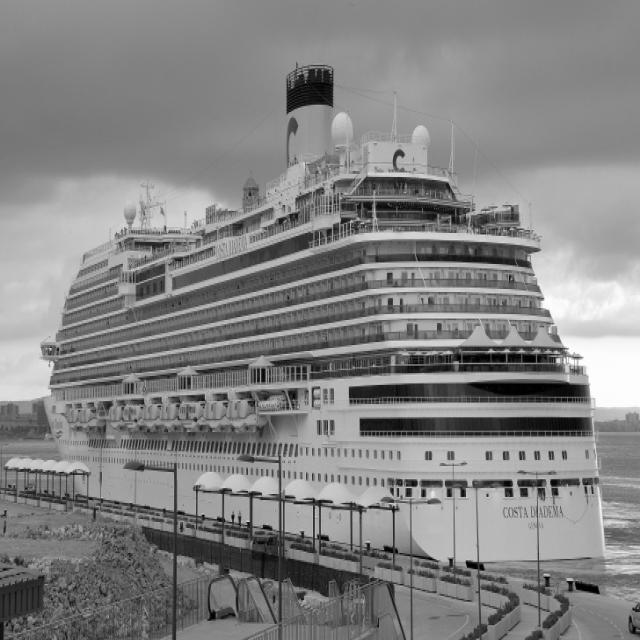cruises: (40, 53, 611, 581)
